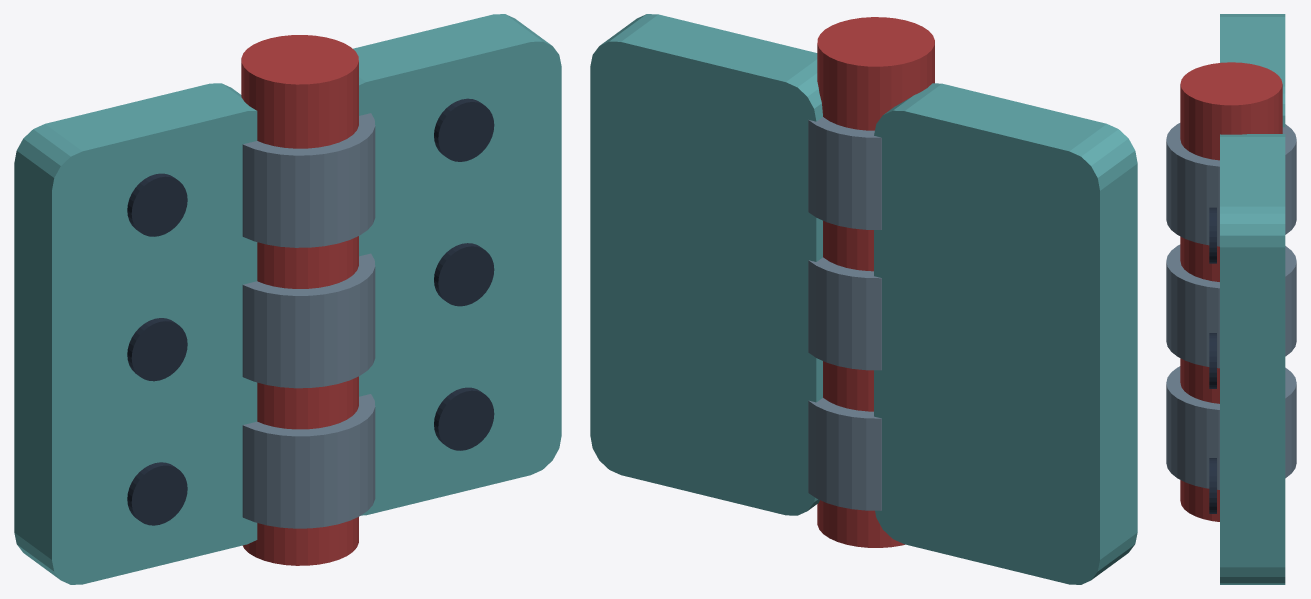
Rendered from hingeplate.glb.
The picture shows the model from 3 angles, left to right: view 1: azimuth 30°, elevation 25°; view 2: azimuth 150°, elevation 25°; view 3: azimuth 270°, elevation 25°; orthographic projection. The views are drawn at different scales.
Parts seen in each view (by area): view 1: leaf-1, leaf1, pin, fixing hole (×6), knuckle0.24, knuckle0.94, knuckle0.59; view 2: leaf-1, leaf1, pin, knuckle0.24, knuckle0.59, knuckle0.94; view 3: leaf1, pin, knuckle0.24, knuckle0.59, knuckle0.94, leaf-1, fixing hole (×3).
Part boxes in pixels (<box>): leaf-1: <box>14,83,257,584</box>; leaf1: <box>353,14,561,515</box>; pin: <box>241,35,358,565</box>; fixing hole (×6): <box>127,98,494,525</box>; knuckle0.24: <box>242,394,375,528</box>; knuckle0.94: <box>242,113,375,247</box>; knuckle0.59: <box>242,253,375,388</box>; leaf-1: <box>874,83,1137,584</box>; leaf1: <box>590,14,822,515</box>; pin: <box>817,17,934,547</box>; knuckle0.24: <box>808,398,881,510</box>; knuckle0.59: <box>808,257,881,370</box>; knuckle0.94: <box>808,117,881,229</box>; leaf1: <box>1220,134,1285,584</box>; pin: <box>1180,62,1282,521</box>; knuckle0.24: <box>1166,366,1296,489</box>; knuckle0.59: <box>1166,244,1296,368</box>; knuckle0.94: <box>1166,123,1296,246</box>; leaf-1: <box>1220,14,1285,127</box>; fixing hole (×3): <box>1209,207,1216,513</box>.
Size of the model in its own units: 1.33 by 1.2 by 0.34.
